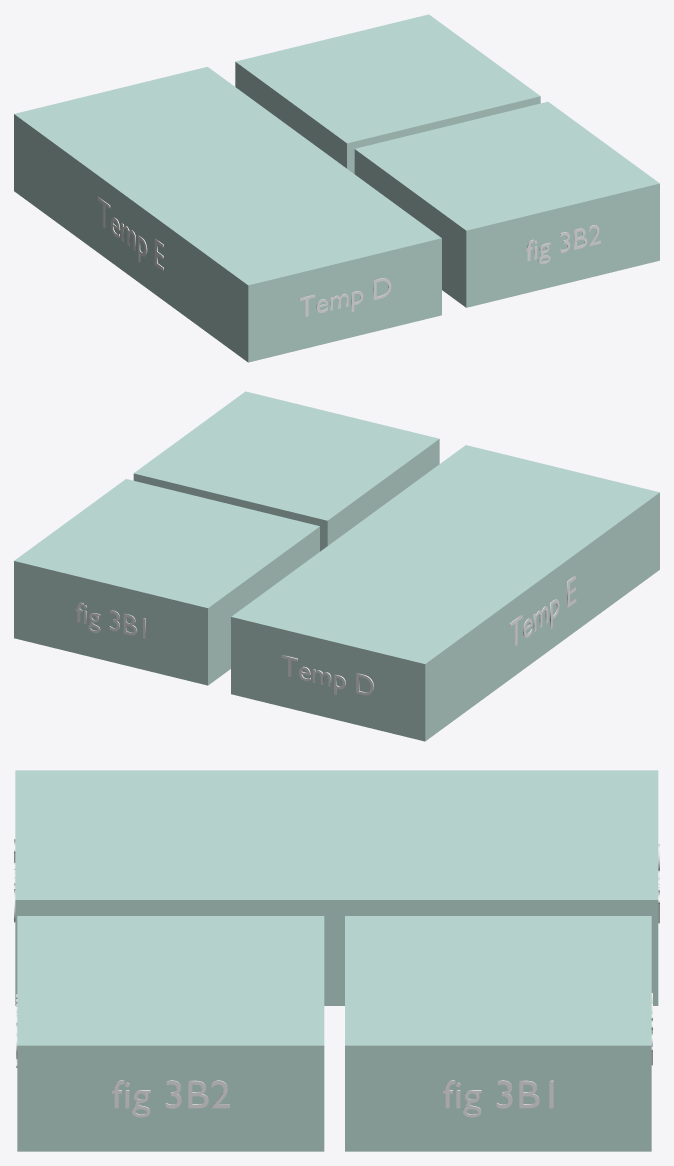
The model's file is block_6.gltf.
3 renders of one model, top to bottom at view 1: azimuth 30°, elevation 25°; view 2: azimuth 150°, elevation 25°; view 3: azimuth 270°, elevation 25°, orthographic. The views are drawn at different scales.
Visible parts, largest first — view 1: r6_50x25x25_1, r6_50x25x25_3, r6_50x25x25_2; view 2: r6_50x25x25_1, r6_50x25x25_2, r6_50x25x25_3; view 3: r6_50x25x25_1, r6_50x25x25_3, r6_50x25x25_2.
Boxes of the visible parts, <box> form: r6_50x25x25_1: <box>14,67,441,362</box>; r6_50x25x25_3: <box>354,101,659,307</box>; r6_50x25x25_2: <box>235,14,540,173</box>; r6_50x25x25_1: <box>231,445,659,741</box>; r6_50x25x25_2: <box>14,479,319,685</box>; r6_50x25x25_3: <box>133,391,439,551</box>; r6_50x25x25_1: <box>14,770,659,1005</box>; r6_50x25x25_3: <box>16,916,324,1151</box>; r6_50x25x25_2: <box>345,916,652,1151</box>.
Size of the model in its own units: 0.1123 by 0.0202 by 0.1105.
